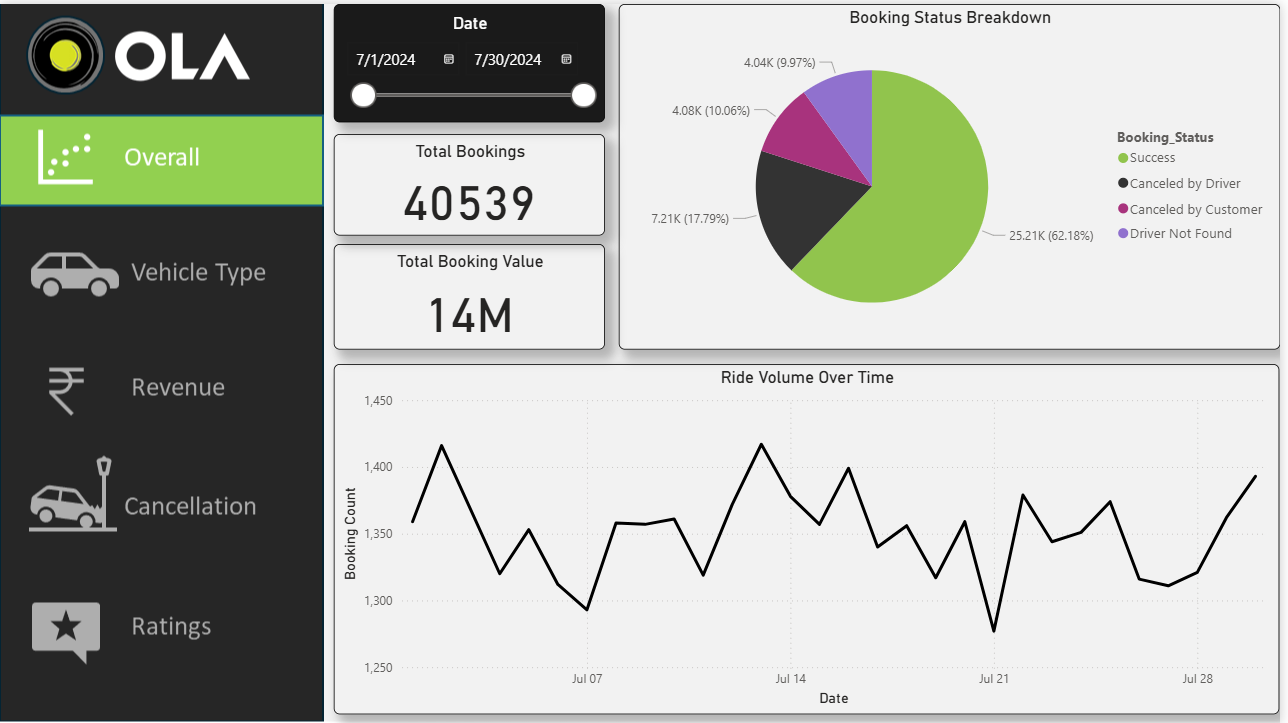

This screenshot's page, from the dashboard's own definition file:
{"tool":"powerbi","page":{"name":"Overall","canvas":[1280,720],"ordinal":0},"visuals":[{"type":"actionButton","box":[0,217.1,321.4,92.9],"z":0},{"type":"actionButton","box":[1.4,335.7,321.4,92.9],"z":1},{"type":"actionButton","box":[0,447.1,321.4,92.9],"z":2},{"type":"actionButton","box":[2.9,584.3,321.4,92.9],"z":3},{"type":"lineChart","title":"Ride Volume Over Time","fields":{"Y":["CountNonNull(July.Booking_ID)"],"Category":["July.Date"]},"box":[334.3,360,945.7,350],"z":4},{"type":"pieChart","title":"Booking Status Breakdown","fields":{"Y":["CountNonNull(July.Booking_Status)"],"Category":["July.Booking_Status"]},"box":[618.6,0,661.4,345.7],"z":5},{"type":"slicer","title":"Date","fields":{"Values":["July.Date"]},"box":[334.3,0,271.4,118.6],"z":6},{"type":"card","title":"Total Bookings","fields":{"Values":["CountNonNull(July.Booking_ID)"]},"box":[334.3,130,271.4,101.4],"z":7},{"type":"card","title":"Total Booking Value","fields":{"Values":["Sum(July.Booking_Value)"]},"box":[334.3,240,271.4,105.7],"z":8}]}

Visuals, with their boxes in screenshot pixels (x1, y1, x2, y2), scaled from the page's 1280x720 canvas onto the 1288x723 screenshot:
actionButton: pyautogui.locateOnScreen(0, 218, 323, 311)
actionButton: pyautogui.locateOnScreen(1, 337, 325, 430)
actionButton: pyautogui.locateOnScreen(0, 449, 323, 542)
actionButton: pyautogui.locateOnScreen(3, 587, 326, 680)
"Ride Volume Over Time" lineChart: pyautogui.locateOnScreen(336, 362, 1287, 713)
"Booking Status Breakdown" pieChart: pyautogui.locateOnScreen(622, 0, 1287, 347)
"Date" slicer: pyautogui.locateOnScreen(336, 0, 609, 119)
"Total Bookings" card: pyautogui.locateOnScreen(336, 131, 609, 232)
"Total Booking Value" card: pyautogui.locateOnScreen(336, 241, 609, 347)
